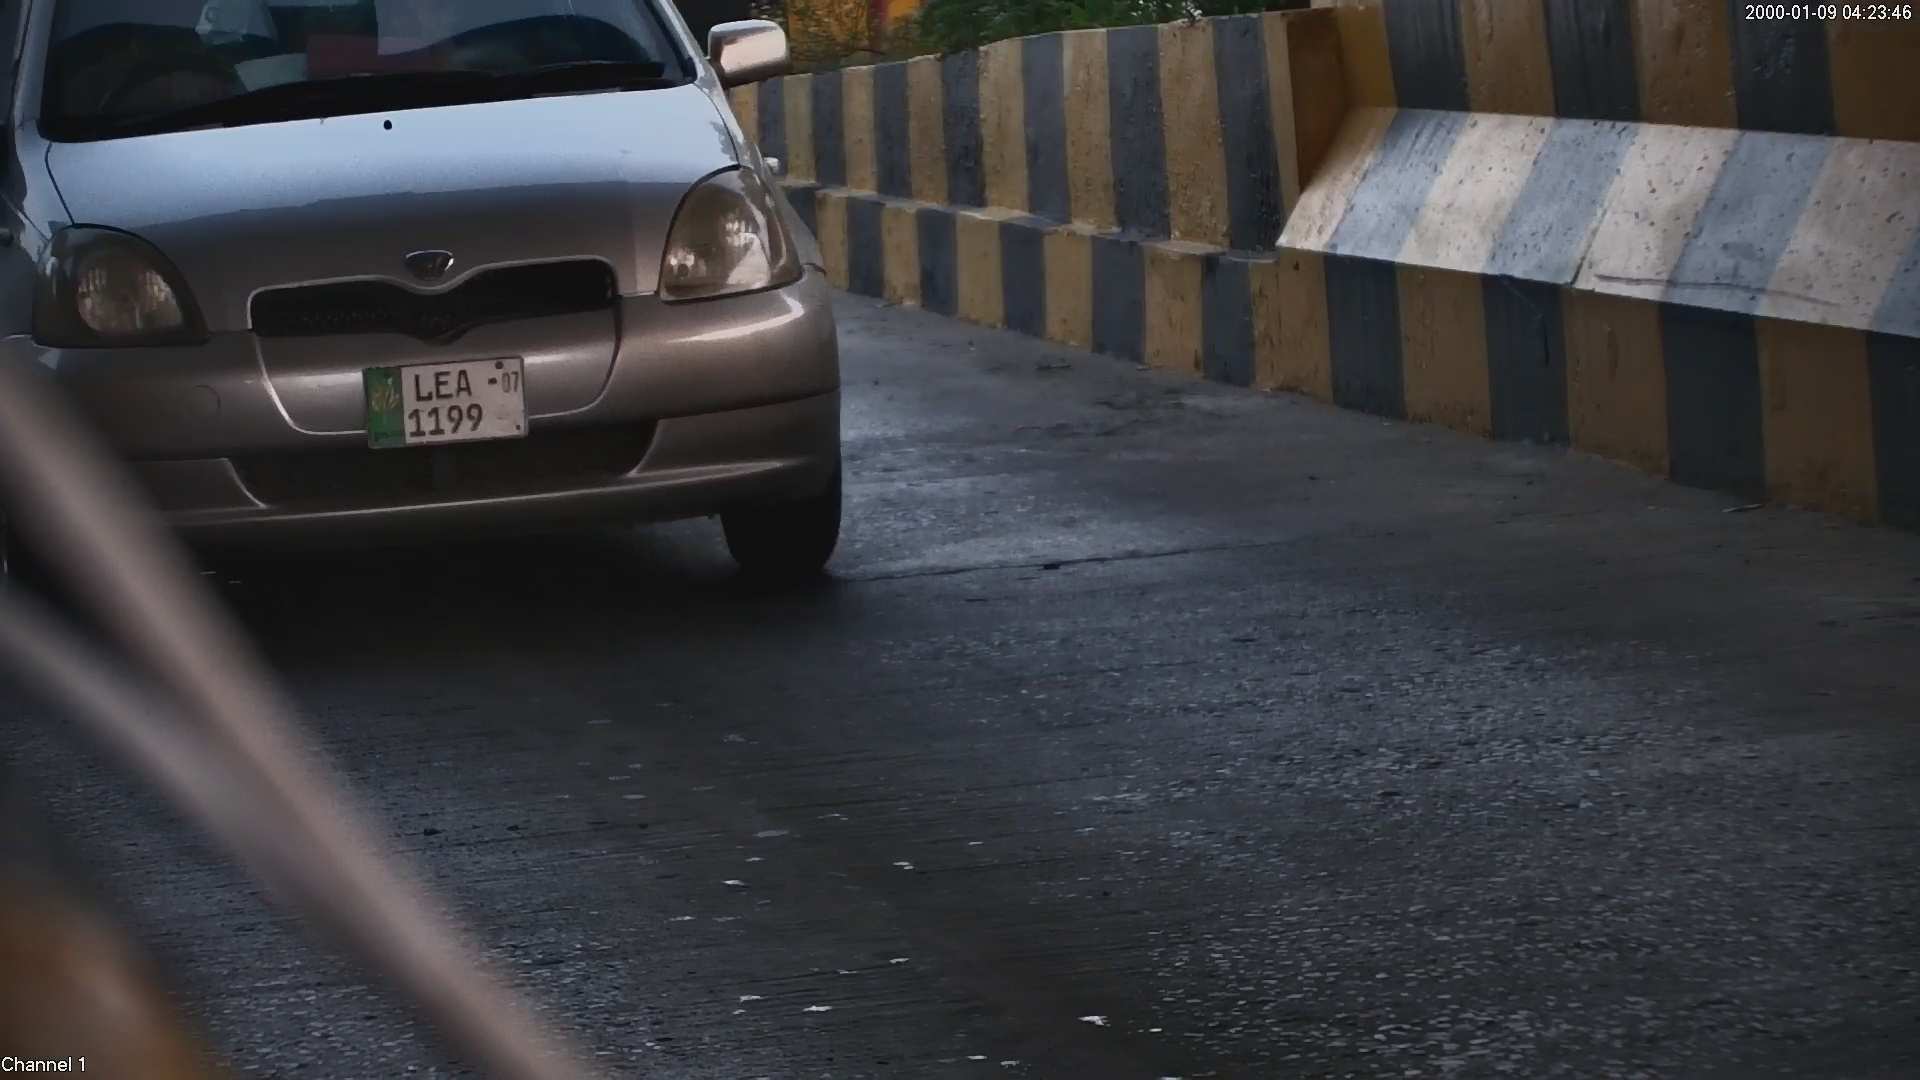Number_Plate: (341, 353, 545, 453)
